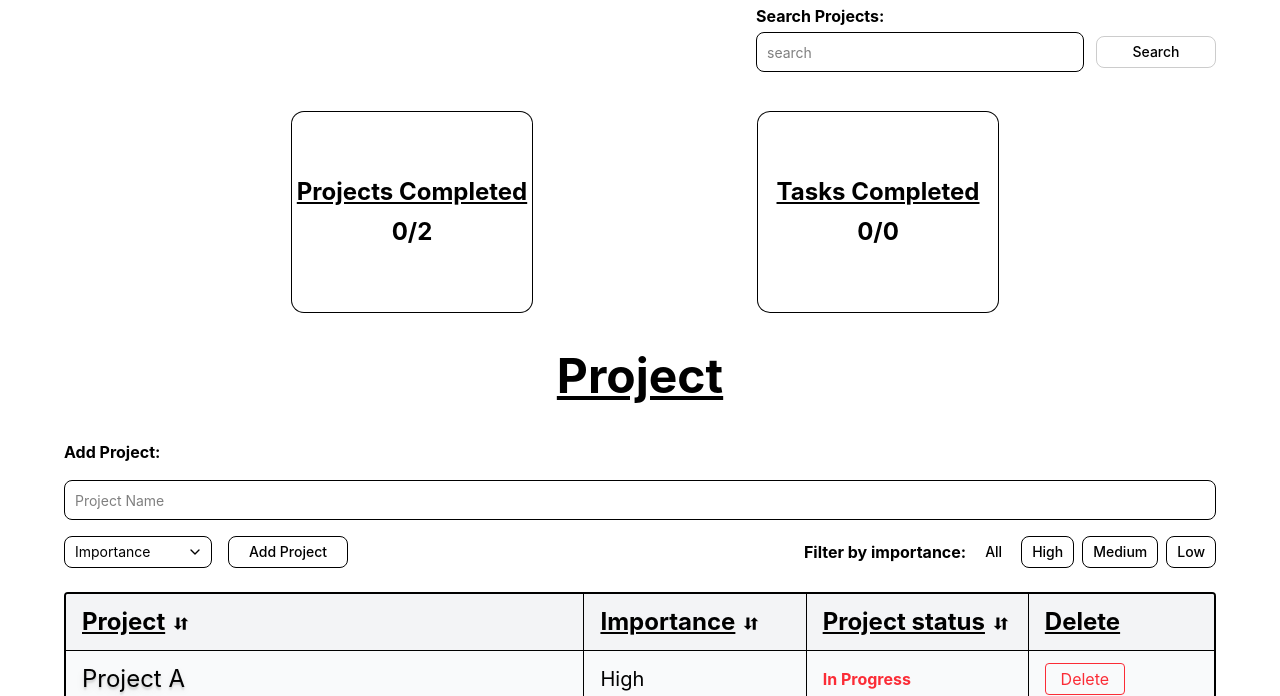
Test case: ProjectCard › shows all projects when search is cleared by clicking Search with no input
The width and height of the screenshot is (1280, 696).
Expected: the heading "Project A" is shown, [82,663,185,695]
In the field with placeholder "search": (920, 52) [756,32,1084,72], type "project a"
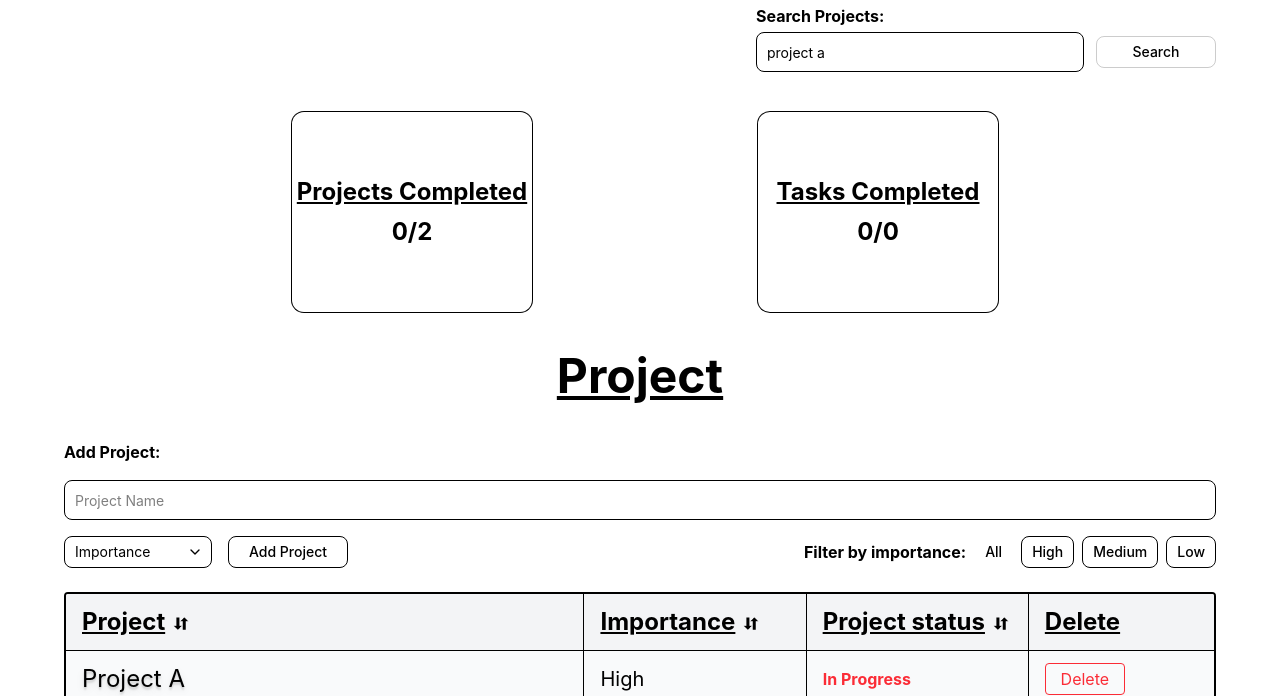
Click the button "Search": (1156, 52) [1096,36,1216,68]
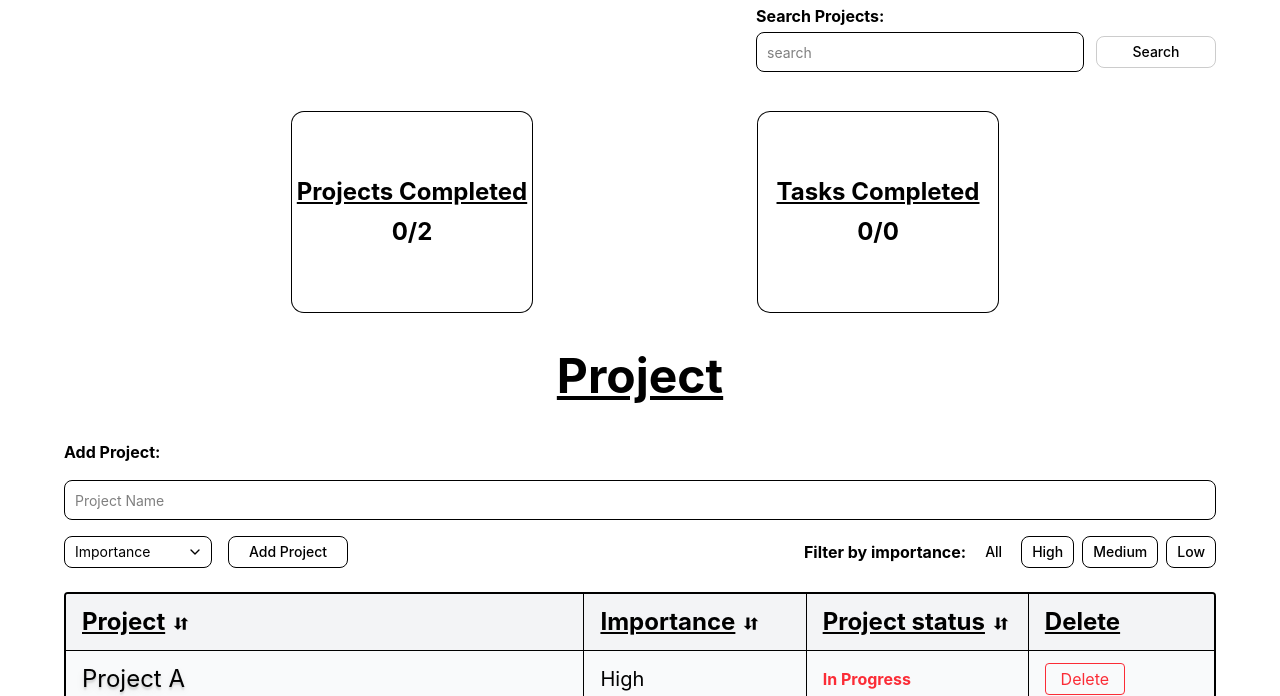
Expected: the heading "Project A" is shown, [82,663,185,695]
Expected: the text "project b" is not shown
Click the button "Search": (1156, 52) [1096,36,1216,68]
(page scrolled)
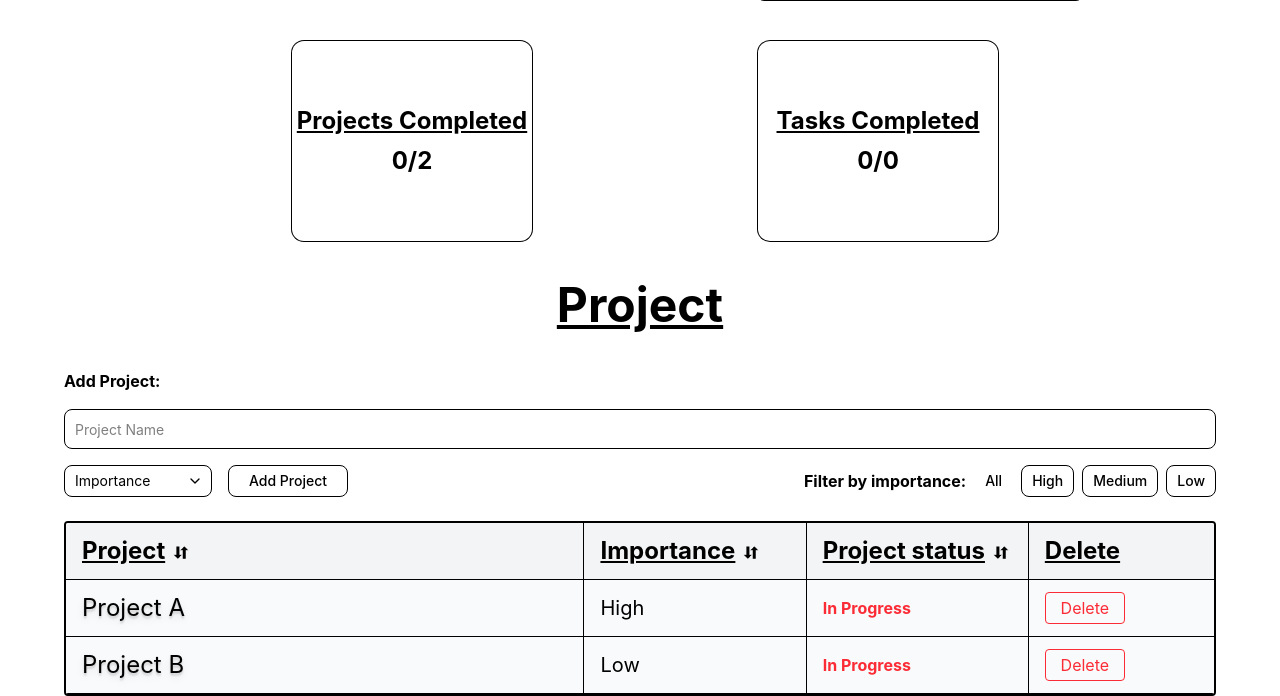
Expected: the heading "Project A" is shown, [82,592,185,624]
Expected: the heading "Project B" is shown, [82,649,184,681]
